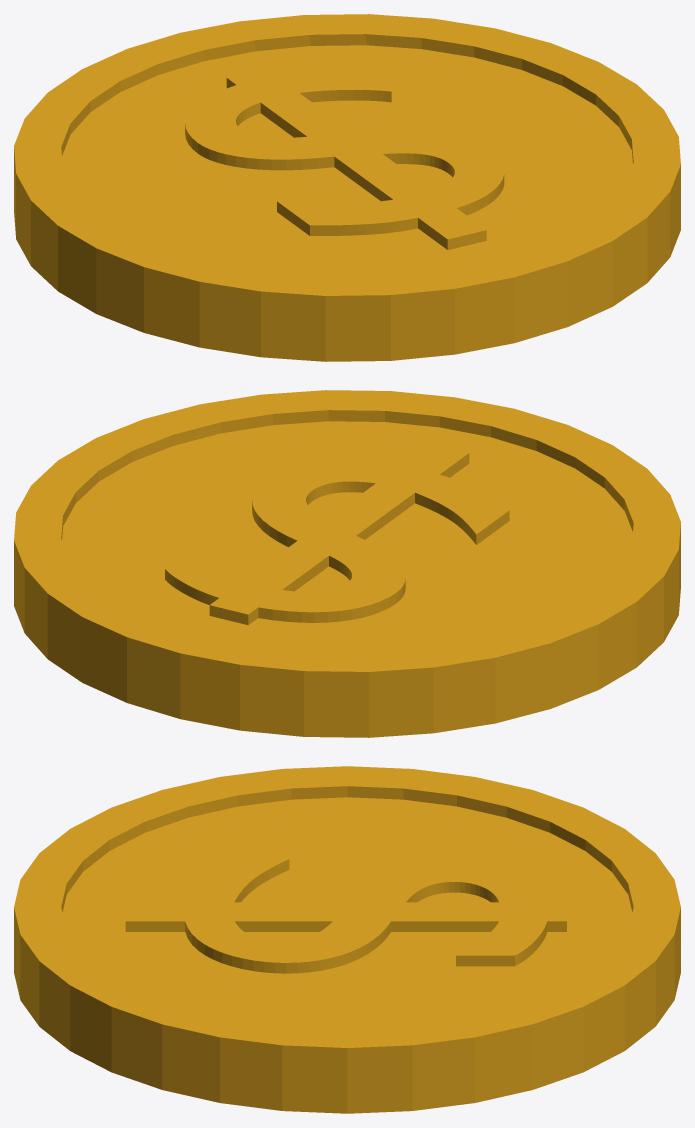
The model's file is 18.coin.fbx.
3 renders of one model, top to bottom at view 1: azimuth 30°, elevation 25°; view 2: azimuth 150°, elevation 25°; view 3: azimuth 270°, elevation 25°, orthographic.
Parts seen in each view (by area): view 1: Cylinder, $; view 2: Cylinder, $; view 3: Cylinder, $.
Boxes of the visible parts, x1,y1,x2,y2 form: Cylinder: [14, 14, 680, 361]; $: [185, 68, 504, 249]; Cylinder: [14, 390, 680, 737]; $: [165, 443, 509, 625]; Cylinder: [14, 766, 680, 1113]; $: [125, 859, 566, 973].
Size of the model in its own units: 200 by 21.73 by 200.
